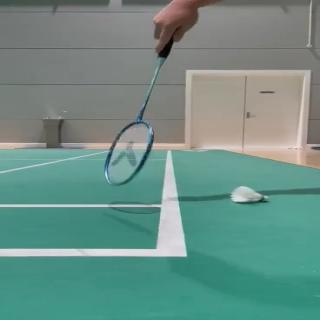Shuttle: (231, 186, 269, 203)
